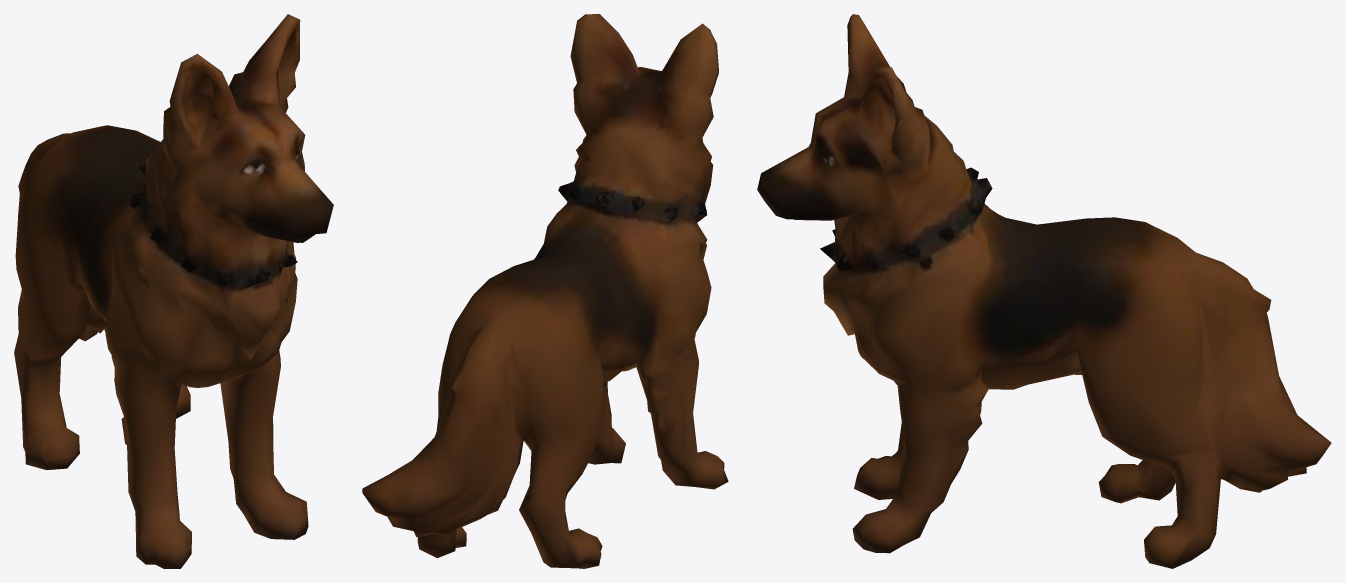
The model's file is detail_5_lo2.glb.
The picture shows the model from 3 angles, left to right: view 1: azimuth 30°, elevation 25°; view 2: azimuth 150°, elevation 25°; view 3: azimuth 270°, elevation 25°; orthographic projection. The views are drawn at different scales.
Visible parts, largest first — view 1: Mesh_0.001; view 2: Mesh_0.001; view 3: Mesh_0.001.
Boxes of the visible parts, x1,y1,x2,y2 form: Mesh_0.001: [14, 14, 333, 568]; Mesh_0.001: [362, 14, 728, 568]; Mesh_0.001: [757, 14, 1331, 568].
Size of the model in its own units: 0.3838 by 0.9388 by 1.01.
1 material, 1 textured.
